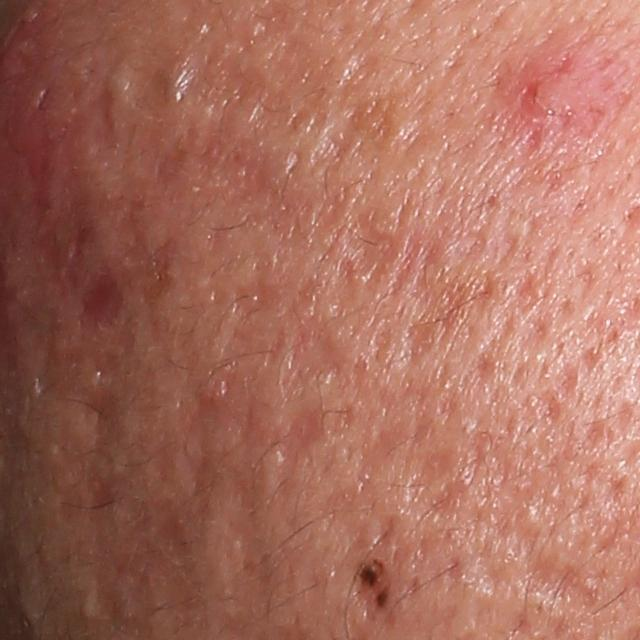atrophic_scar: (133, 112, 362, 257), (381, 233, 493, 369), (209, 465, 293, 634), (176, 388, 258, 502), (108, 189, 181, 305), (423, 427, 490, 525), (81, 42, 139, 152), (333, 205, 401, 295), (120, 32, 186, 115), (280, 309, 344, 394), (270, 398, 325, 496), (72, 379, 139, 459), (67, 264, 128, 341), (402, 448, 461, 502), (459, 340, 496, 414), (467, 548, 519, 598), (227, 273, 281, 320), (314, 118, 356, 170), (355, 426, 402, 471)
nevus: (350, 557, 396, 628)
